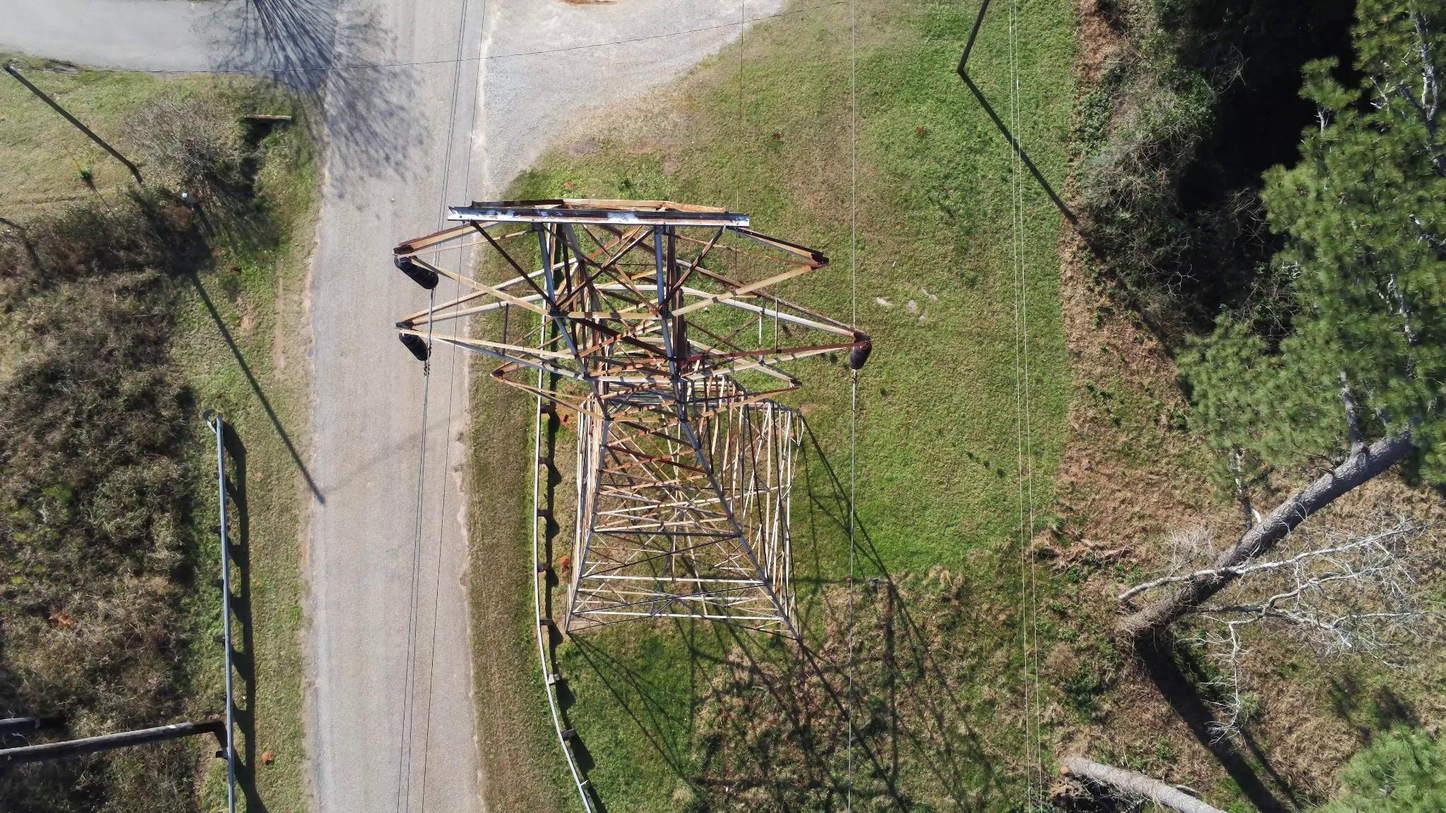tower: (389, 195, 880, 644)
